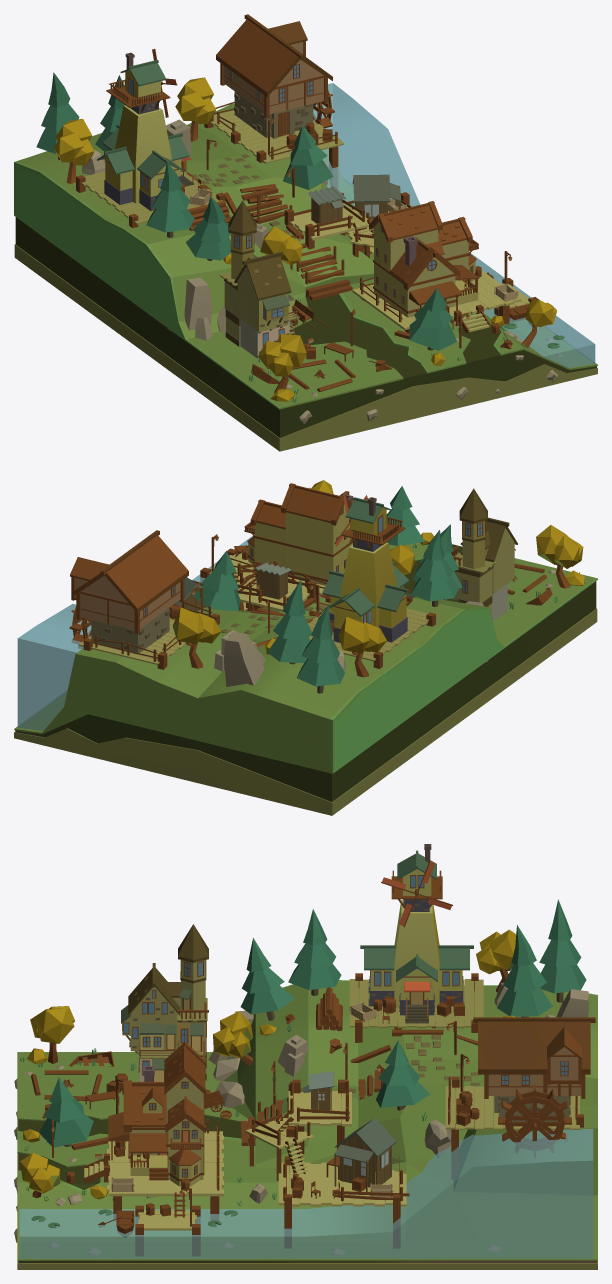
File: village_environment.glb
3 renders of one model, top to bottom at view 1: azimuth 30°, elevation 25°; view 2: azimuth 150°, elevation 25°; view 3: azimuth 270°, elevation 25°, orthographic. The views are drawn at different scales.
Visible parts, largest first — view 1: Soil, Tree_2, B_House_1, B_House_5, Water, B_House_4, Tree_1, B_House_3, Wood, Rock, Wood_floor_1, Wood_floor_3 (+12 smaller); view 2: Soil, Tree_2, B_House_5, B_House_1, B_House_4, Water, Tree_1, B_House_3, Rock, Wood_floor_3, Wood_floor_2, Wood_floor_4 (+8 smaller); view 3: Soil, Water, Tree_2, B_House_1, B_House_5, Wood_floor_2, B_House_4, Wood_floor_1, Tree_1, B_House_3, Rock, Wood (+19 smaller).
Part boxes in pixels (x1,y1,x2,y2): Soil: [14, 103, 597, 451]; Tree_2: [36, 72, 456, 350]; B_House_1: [369, 201, 479, 317]; B_House_5: [216, 14, 332, 138]; Water: [313, 83, 595, 367]; B_House_4: [97, 52, 194, 210]; Tree_1: [53, 77, 556, 393]; B_House_3: [224, 200, 292, 358]; Wood: [181, 161, 409, 391]; Rock: [82, 119, 563, 423]; Wood_floor_1: [352, 266, 538, 333]; Wood_floor_3: [204, 101, 344, 188]; Soil: [14, 542, 597, 815]; Tree_2: [192, 486, 462, 693]; B_House_5: [70, 530, 188, 654]; B_House_1: [244, 483, 353, 585]; B_House_4: [322, 497, 414, 642]; Water: [17, 535, 252, 730]; Tree_1: [172, 480, 583, 677]; B_House_3: [454, 488, 517, 621]; Rock: [214, 570, 555, 686]; Wood_floor_3: [78, 600, 219, 669]; Wood_floor_2: [192, 560, 316, 611]; Wood_floor_4: [307, 608, 436, 668]; Soil: [17, 980, 597, 1269]; Water: [19, 1129, 593, 1258]; Tree_2: [39, 899, 586, 1147]; B_House_1: [108, 1042, 205, 1186]; B_House_5: [473, 1017, 595, 1121]; Wood_floor_2: [245, 1079, 409, 1248]; B_House_4: [360, 844, 473, 1023]; Wood_floor_1: [83, 1119, 223, 1255]; Tree_1: [20, 929, 516, 1198]; B_House_3: [122, 924, 208, 1081]; Rock: [14, 982, 588, 1255]; Wood: [31, 987, 477, 1150].
Bounding box in the file's own units: 4.7 × 3.49 × 6.72.
Materials: 38 (38 with a texture image).
